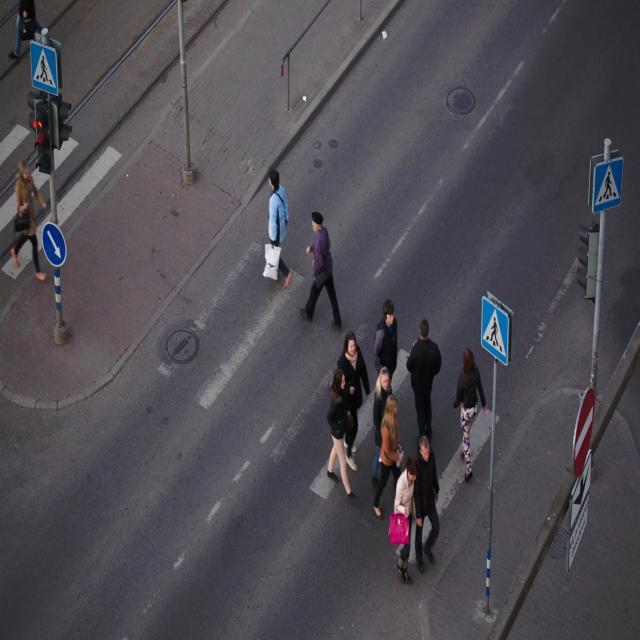pedestrian: (374, 321, 441, 583), (405, 319, 441, 440), (454, 348, 486, 481), (301, 212, 336, 319), (263, 170, 291, 286), (331, 332, 364, 401)
